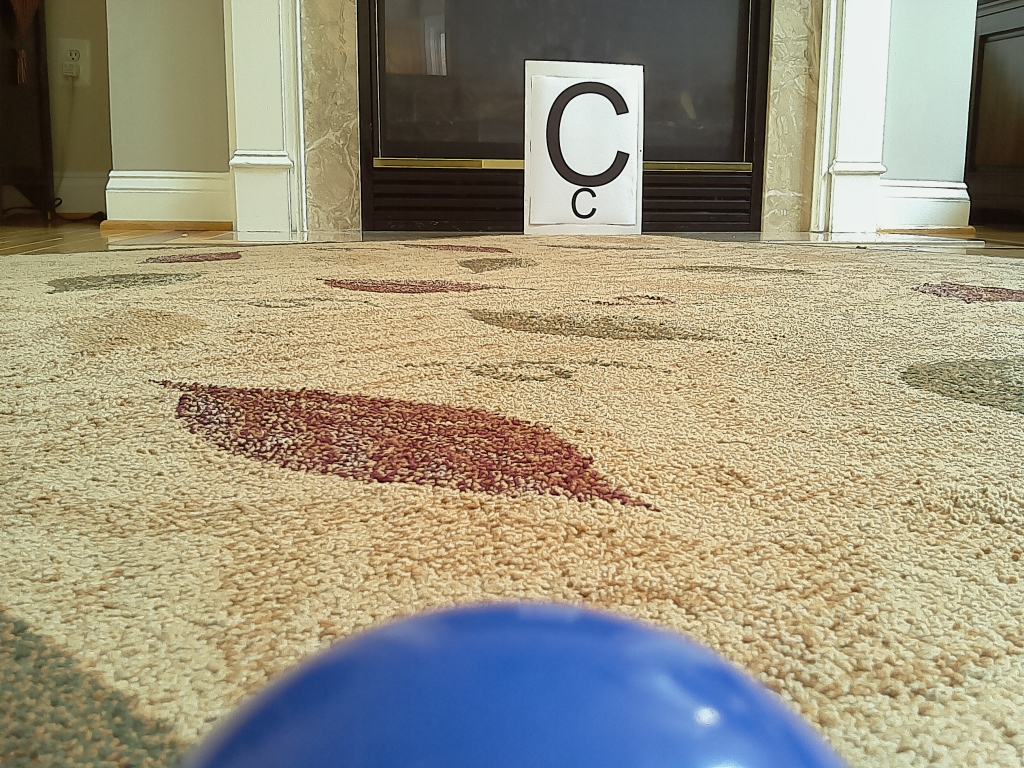letter: (546, 82, 628, 188)
